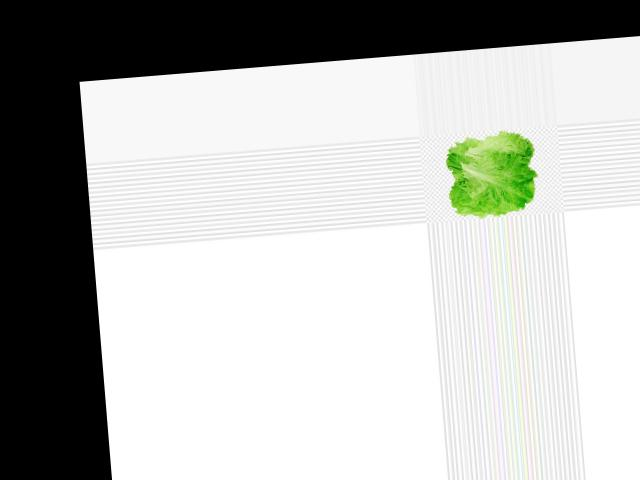lettuce: (437, 126, 546, 222)
